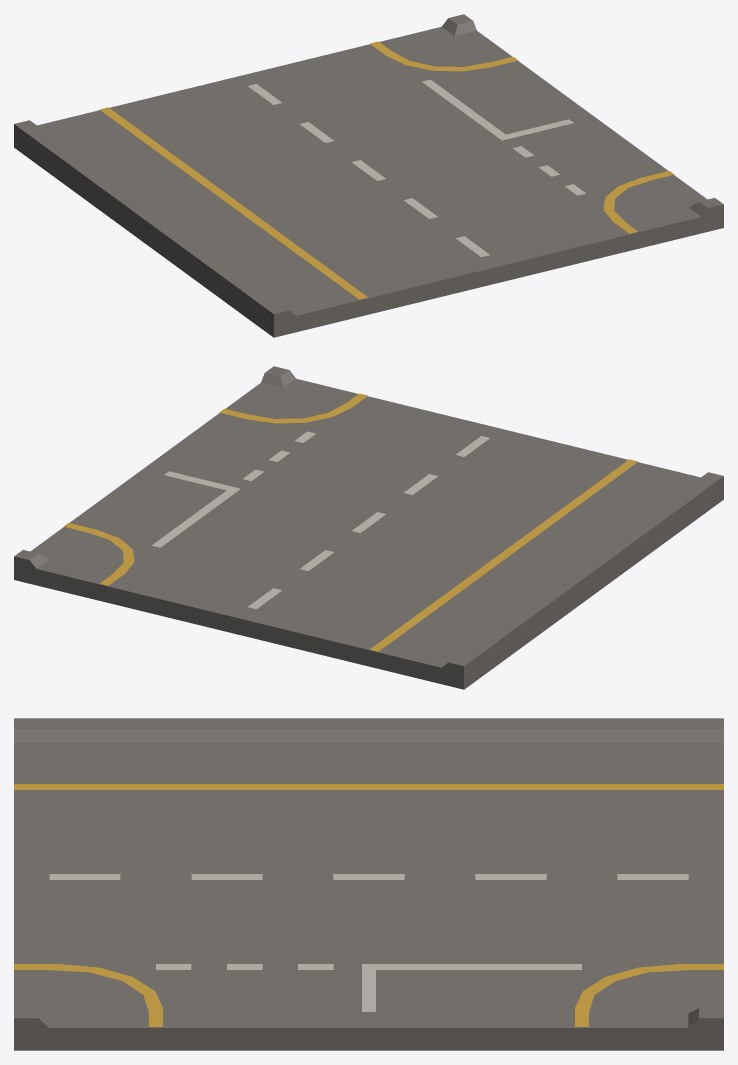
Rendered from road_tsplit.gltf.
3 views of the same model, one above another, from view 1: azimuth 30°, elevation 25°; view 2: azimuth 150°, elevation 25°; view 3: azimuth 270°, elevation 25° (orthographic). The views are drawn at different scales.
Parts seen in each view (by area): view 1: road_tsplit; view 2: road_tsplit; view 3: road_tsplit.
Boxes of the visible parts, x1=… form: road_tsplit: x1=14, y1=14, x2=723, y2=337; road_tsplit: x1=14, y1=366, x2=723, y2=689; road_tsplit: x1=14, y1=718, x2=723, y2=1050.
Size of the model in its own units: 6 by 0.3 by 6.
